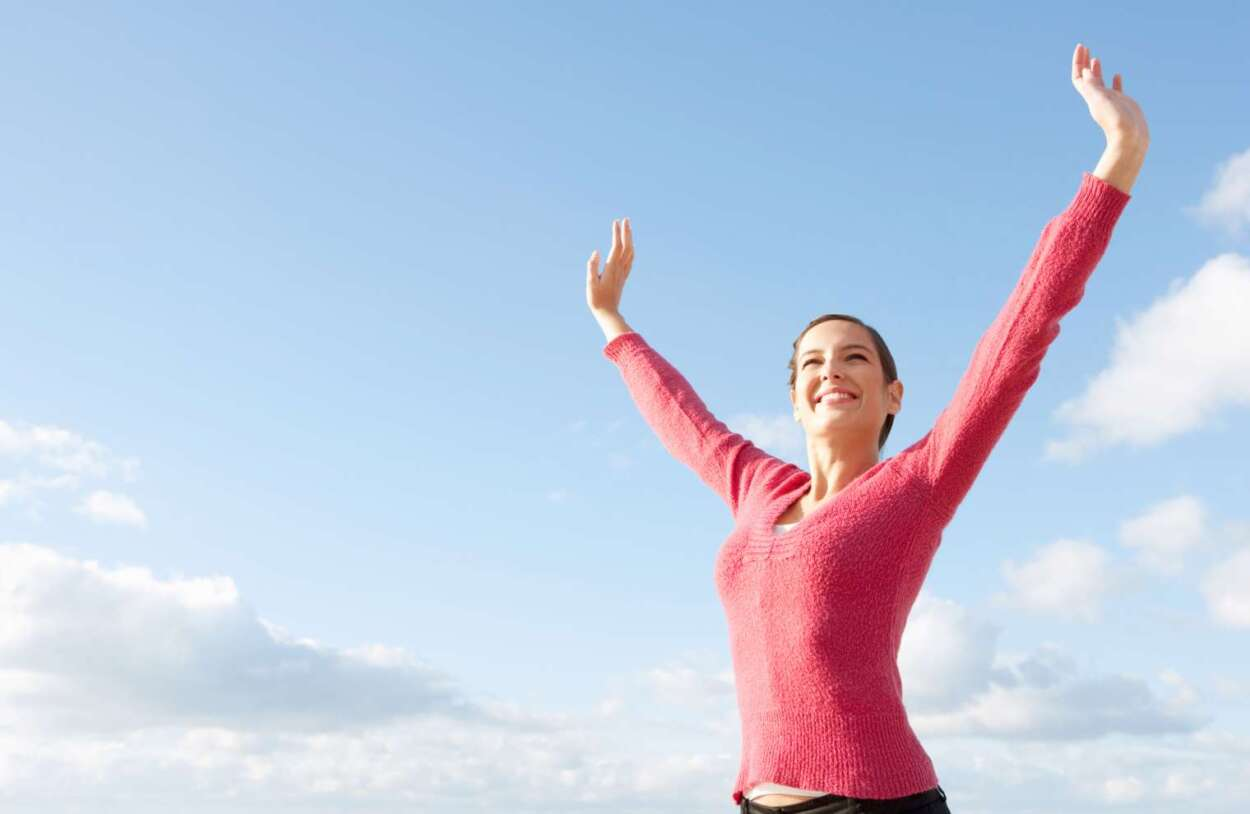human: (559, 37, 1164, 814)
